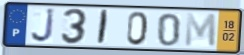0: (156, 12, 183, 47), (126, 10, 150, 46)
3: (59, 7, 90, 46)
I: (96, 9, 111, 46)
J: (30, 7, 56, 44)
M: (184, 12, 218, 49)
